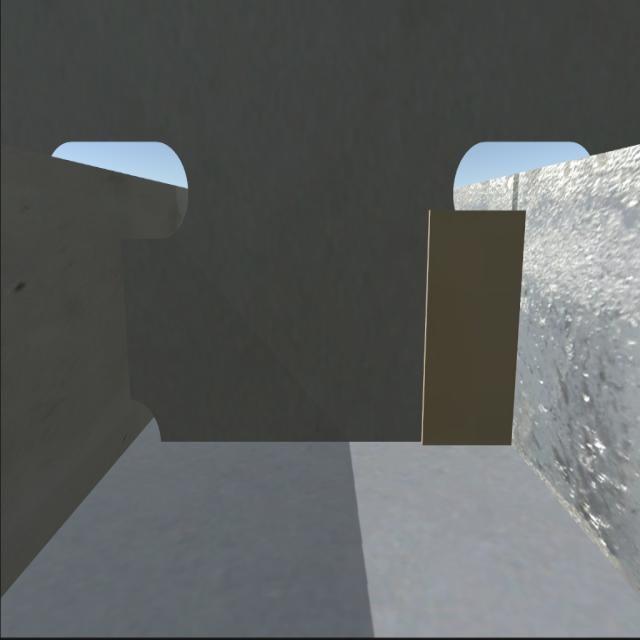fillet_hole: (130, 398, 163, 446)
fillet_yong_jeop_jang: (167, 435, 513, 451)
longi_yong_jeop_jang: (512, 213, 526, 445), (124, 242, 135, 394)
plate_CP01: (426, 210, 518, 444)
